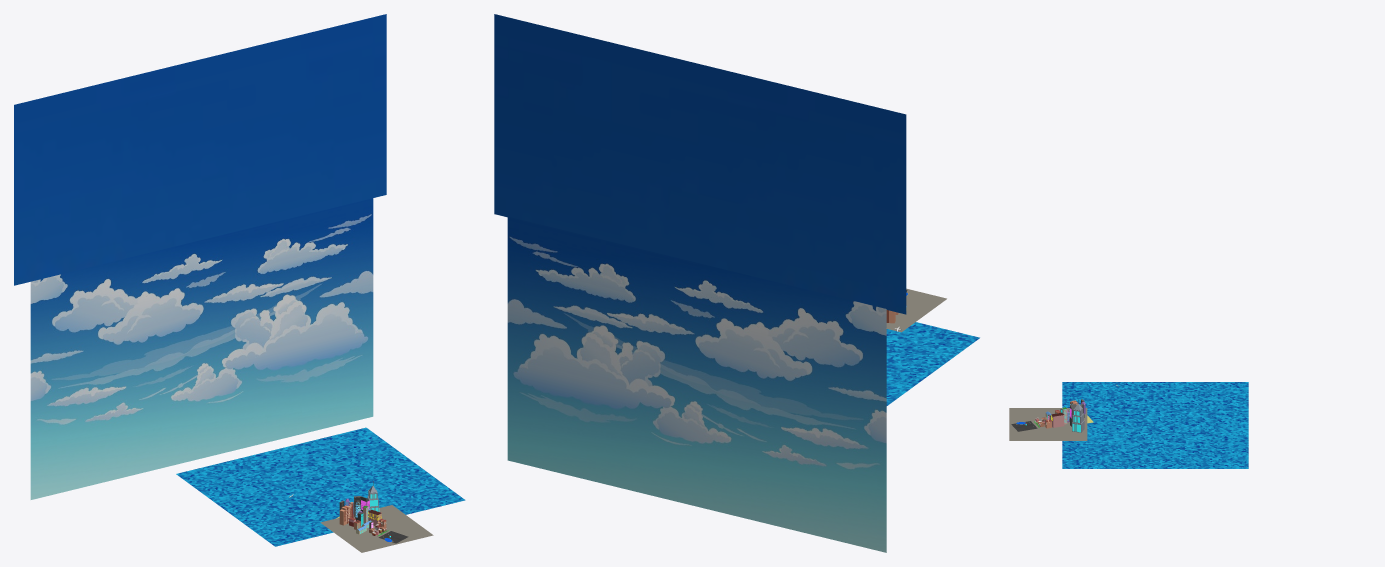
Rendered from Nightscape.fbx.
3 views of the same model, side by side, from view 1: azimuth 30°, elevation 25°; view 2: azimuth 150°, elevation 25°; view 3: azimuth 270°, elevation 25° (orthographic). The views are drawn at different scales.
Parts seen in each view (by area): view 1: blue-sky-with-white-clouds-clear-sunny-day_136277-267, Plane.096, Plane.023, Plane.103; view 2: blue-sky-with-white-clouds-clear-sunny-day_136277-267, Plane.096, Plane.023, Plane.103; view 3: Plane.023, Plane.103.
Part boxes in pixels (<box>): blue-sky-with-white-clouds-clear-sunny-day_136277-267: <box>30,198,373,499</box>; Plane.096: <box>14,14,386,285</box>; Plane.023: <box>176,427,465,546</box>; Plane.103: <box>320,505,433,552</box>; blue-sky-with-white-clouds-clear-sunny-day_136277-267: <box>507,216,886,552</box>; Plane.096: <box>494,14,906,314</box>; Plane.023: <box>886,322,979,405</box>; Plane.103: <box>886,288,946,332</box>; Plane.023: <box>1062,382,1248,468</box>; Plane.103: <box>1009,408,1087,440</box>.
Bounding box in the file's own units: 45780 × 46989 × 41096.
